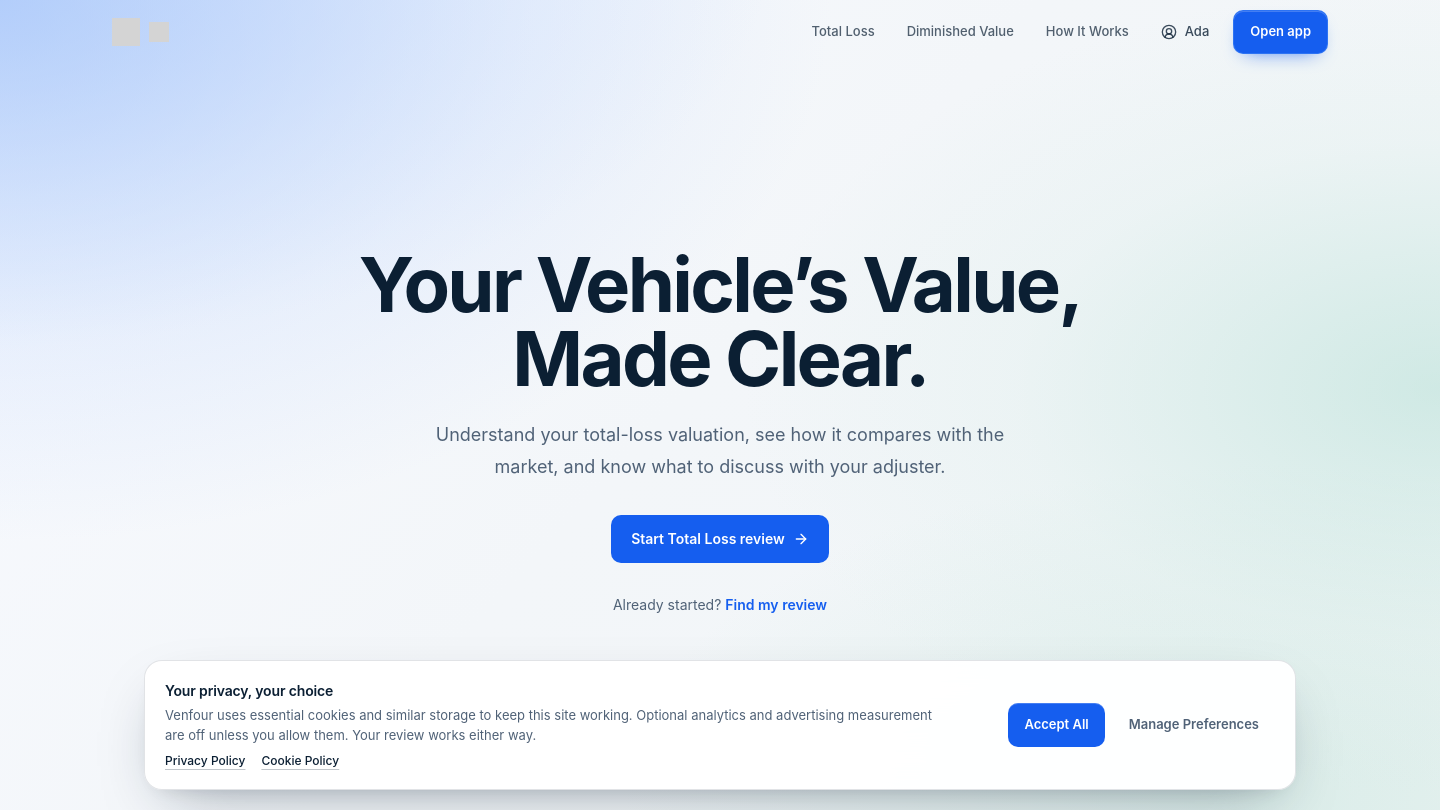
Venfour application › shows signed-in identity and sign out in the focused journey header
Click the button with aria-label "Account for ada@example.com" at (1185, 32), box top-left (1149, 10), bottom-right (1221, 54)
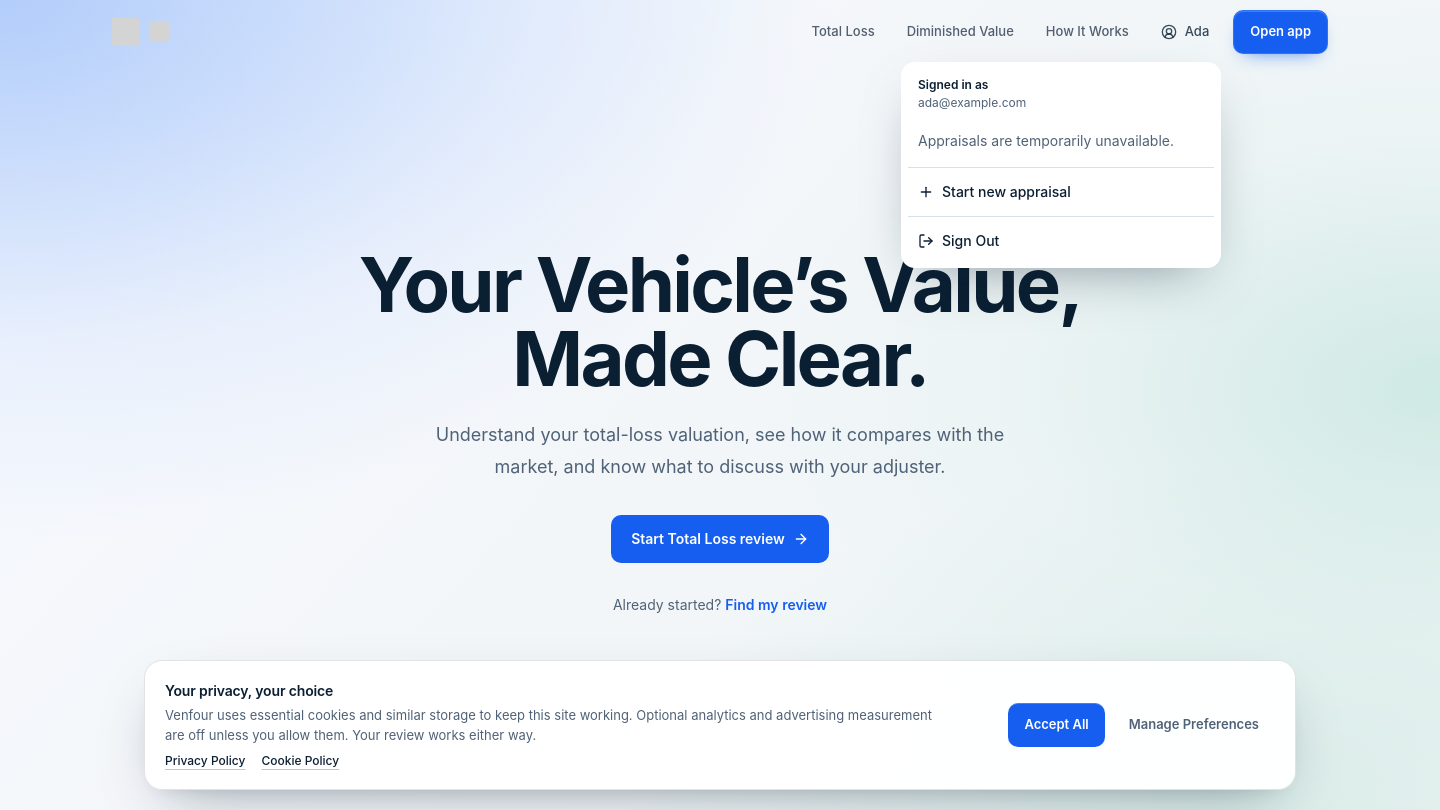
Expected: the text "ada@example.com" is shown, top-left (918, 95), bottom-right (1026, 110)
Expected: the menu item "Sign Out" is shown, top-left (908, 221), bottom-right (1214, 261)
